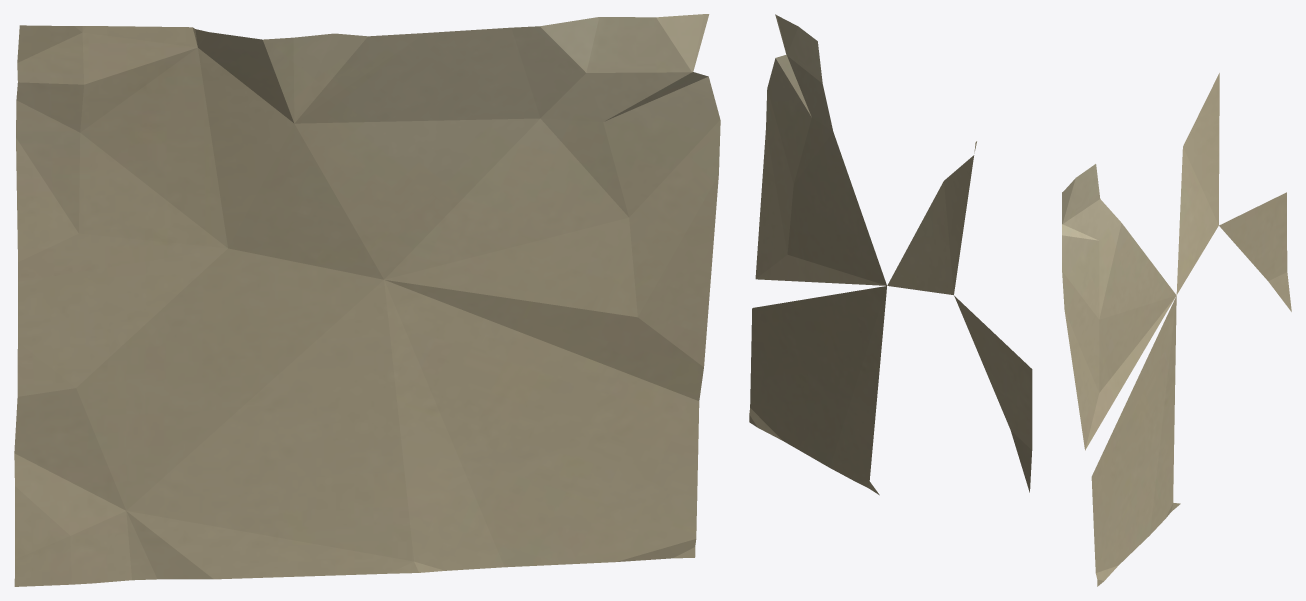
3 renders of one model, left to right at view 1: azimuth 30°, elevation 25°; view 2: azimuth 150°, elevation 25°; view 3: azimuth 270°, elevation 25°, orthographic. The views are drawn at different scales.
Bounding box in the file's own units: 0.8374 × 0.8374 × 0.446.
3 materials, 3 textured.
